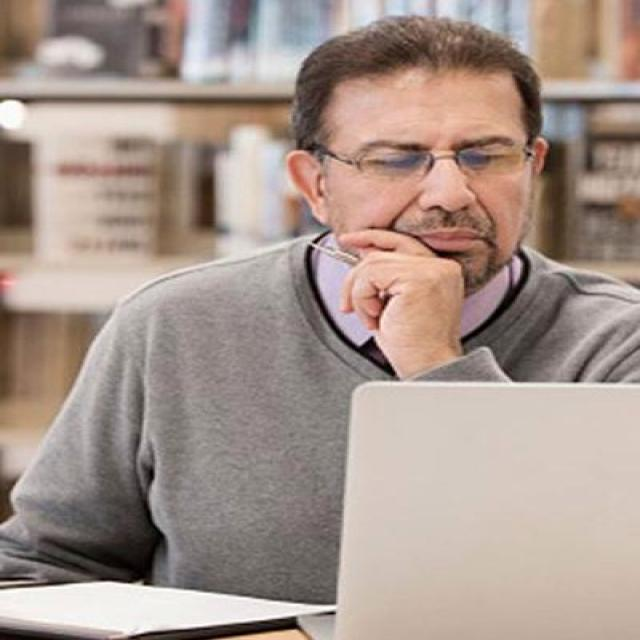adult: (0, 11, 638, 588)
